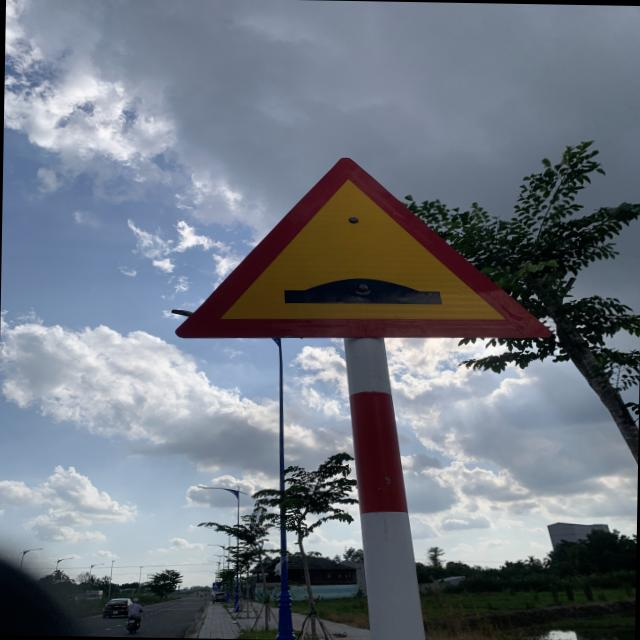Duong_Cong_Ben_Phai: (175, 151, 554, 346)
